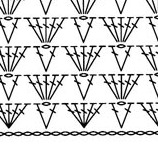double treble: (0, 111, 142, 153)
enseble_chain: (56, 94, 92, 133), (74, 97, 111, 134), (39, 69, 75, 106), (114, 69, 150, 106), (0, 97, 35, 133), (39, 13, 73, 49), (114, 12, 148, 48), (3, 43, 36, 78), (79, 42, 111, 77), (131, 93, 158, 132), (59, 41, 88, 77), (22, 69, 51, 105), (75, 72, 104, 104), (114, 101, 142, 133), (39, 101, 67, 133), (0, 16, 28, 48), (0, 72, 28, 104), (99, 70, 126, 103), (75, 15, 102, 47), (114, 44, 140, 75), (40, 45, 65, 76), (78, 0, 90, 15)
fan: (26, 70, 50, 103), (68, 16, 89, 47), (107, 72, 127, 101), (1, 45, 18, 72), (77, 45, 93, 72), (0, 103, 15, 128), (4, 0, 14, 16)
